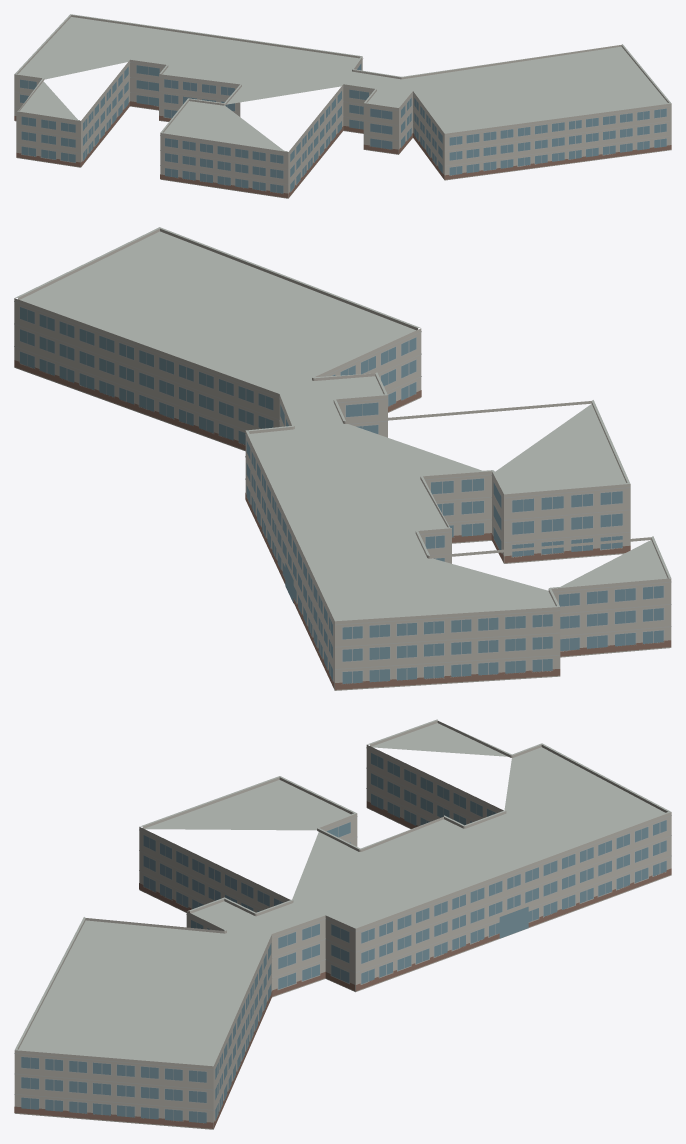
The model's file is public-5f889e65-f6c7-42ac-a66c-7a3821e30a0a.glb.
The picture shows the model from 3 angles, top to bottom: view 1: azimuth 30°, elevation 25°; view 2: azimuth 150°, elevation 25°; view 3: azimuth 270°, elevation 25°; orthographic projection. The views are drawn at different scales.
Visible parts, largest first — view 1: public-5f889e65-f6c7-42ac-a66c-7a3821e30a0a; view 2: public-5f889e65-f6c7-42ac-a66c-7a3821e30a0a; view 3: public-5f889e65-f6c7-42ac-a66c-7a3821e30a0a.
Part boxes in pixels (x1,y1,x2,y2): public-5f889e65-f6c7-42ac-a66c-7a3821e30a0a: (14, 14, 671, 198); public-5f889e65-f6c7-42ac-a66c-7a3821e30a0a: (14, 227, 671, 690); public-5f889e65-f6c7-42ac-a66c-7a3821e30a0a: (14, 719, 671, 1129).
Bounding box in the file's own units: 107 × 9.15 × 85.86.
